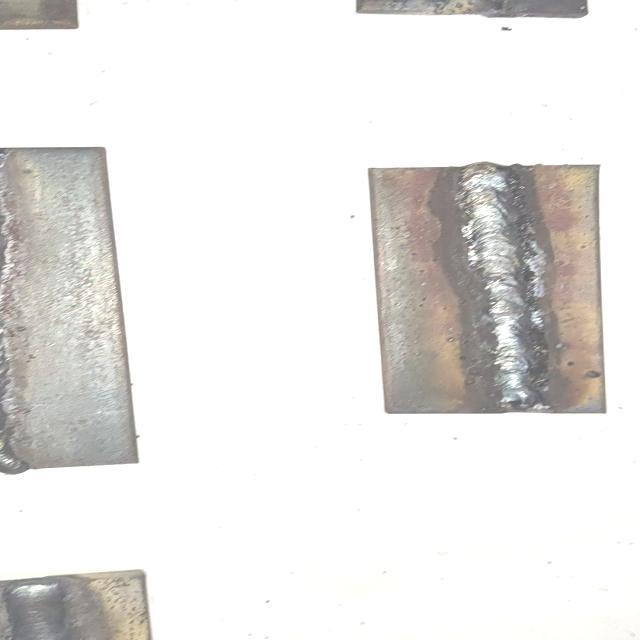Welding Line: (458, 169, 544, 410)
Workpiece: (360, 159, 620, 423), (0, 140, 155, 482)
